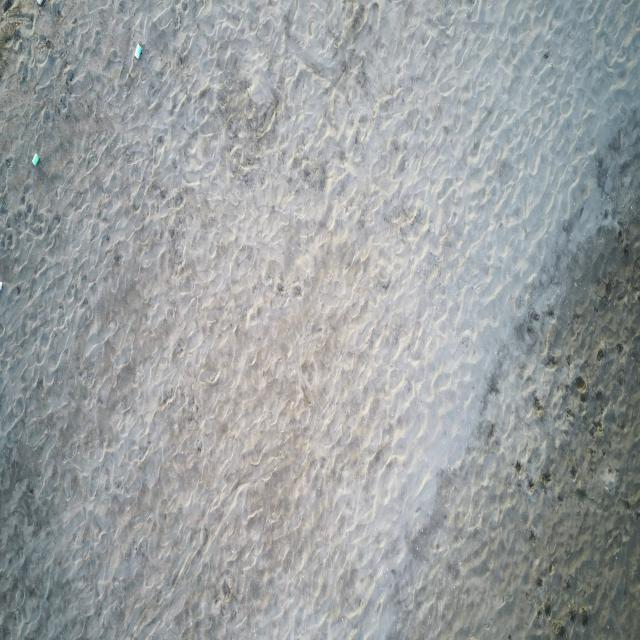tin-and-aluminum-cans: (134, 43, 142, 59), (32, 154, 40, 166)
